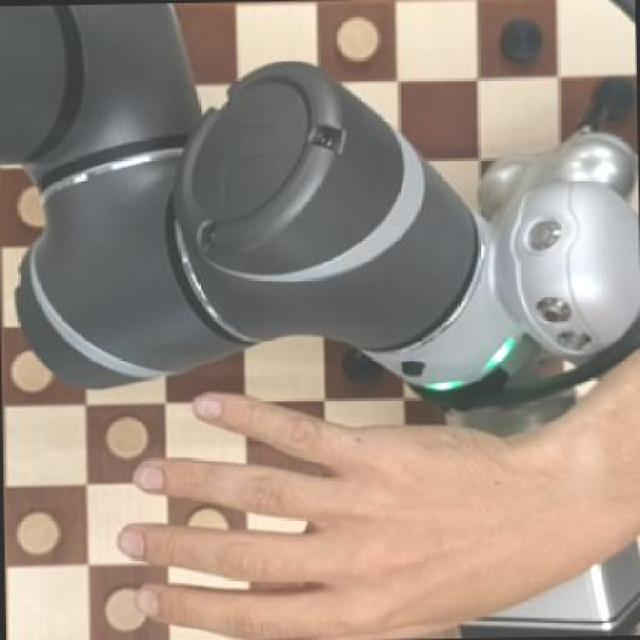black: (496, 15, 549, 65)
white: (330, 11, 386, 65), (97, 407, 153, 459), (12, 506, 64, 561)
